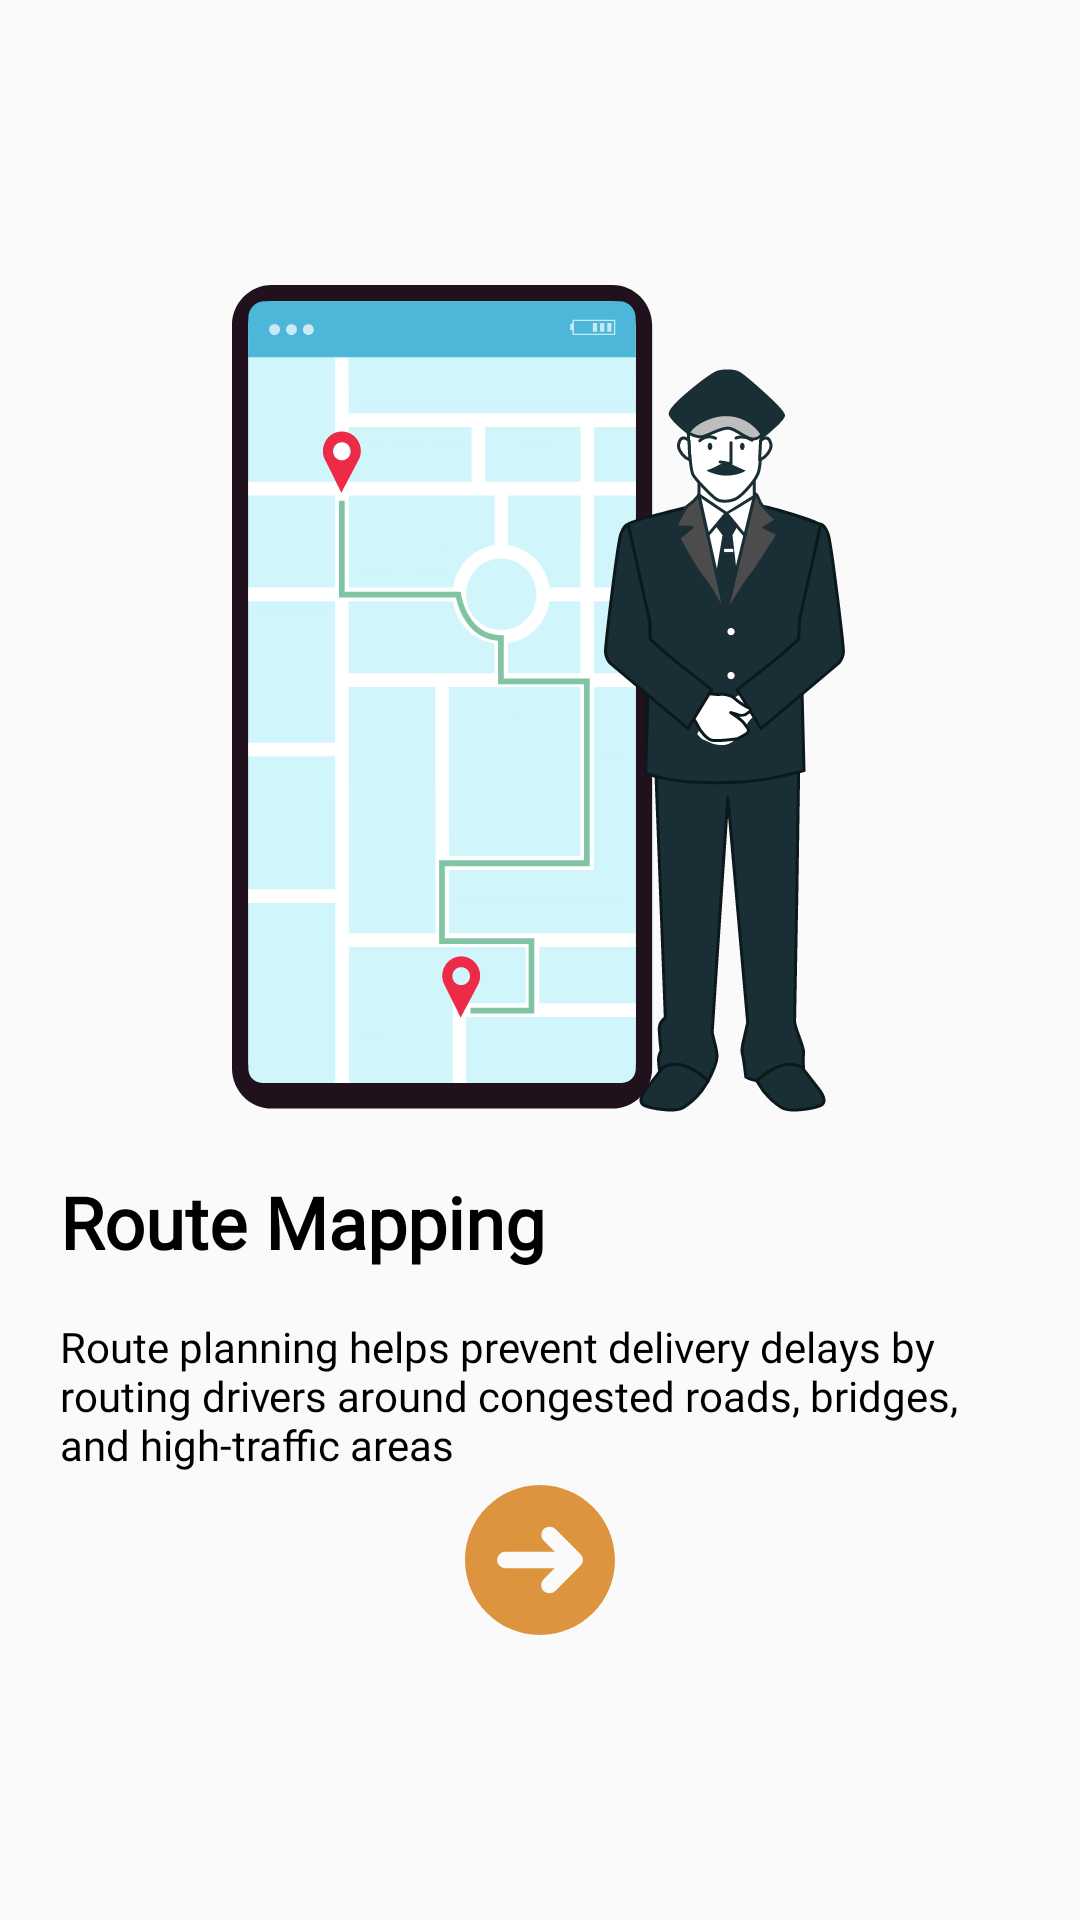

Locate icon controls on the screen. Image size 1080 × 1920, boxes as (x1, y1, x2, y2).
arrow right: (465, 1485, 615, 1635)
